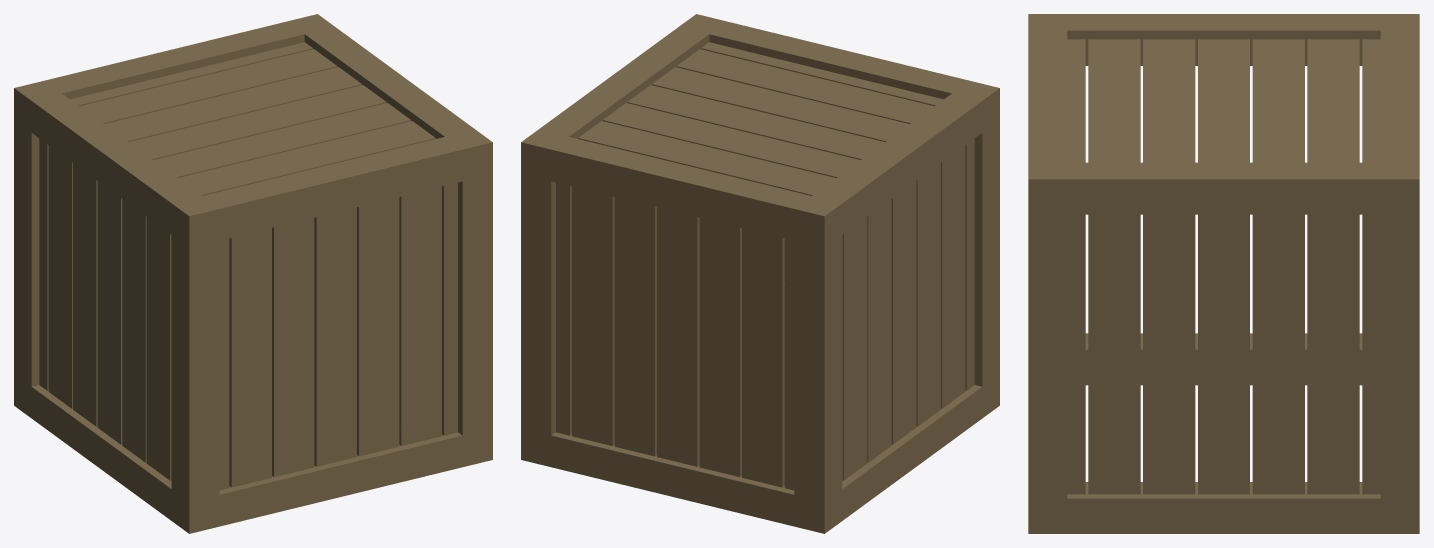
The picture shows the model from 3 angles, left to right: view 1: azimuth 30°, elevation 25°; view 2: azimuth 150°, elevation 25°; view 3: azimuth 270°, elevation 25°; orthographic projection. The views are drawn at different scales.
Visible parts, largest first — view 1: group24_group7_polySurface104; view 2: group24_group7_polySurface104; view 3: group24_group7_polySurface104.
Boxes of the visible parts, left/top/right/bottom form: group24_group7_polySurface104: left=14, top=14, right=492, bottom=533; group24_group7_polySurface104: left=521, top=14, right=999, bottom=533; group24_group7_polySurface104: left=1028, top=14, right=1419, bottom=533.
Bounding box in the file's own units: 15 × 15 × 15.
